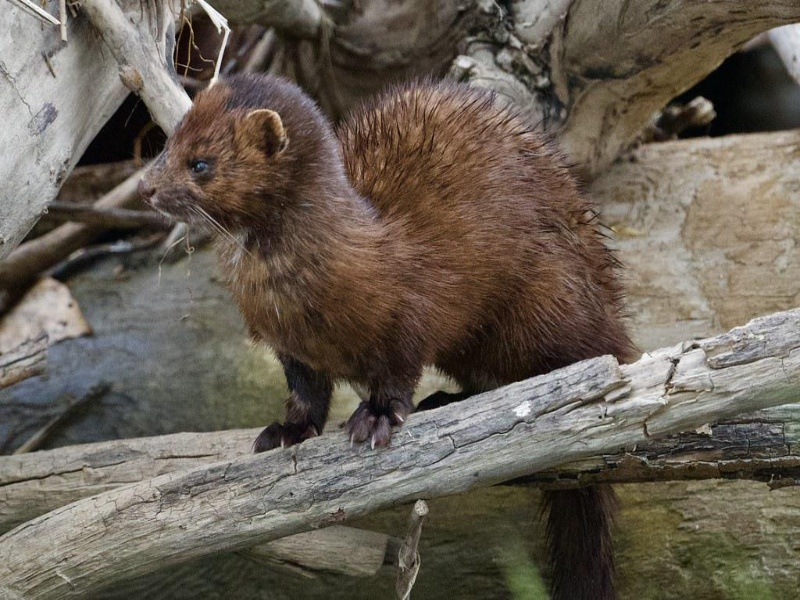minkish: (134, 73, 641, 459)
